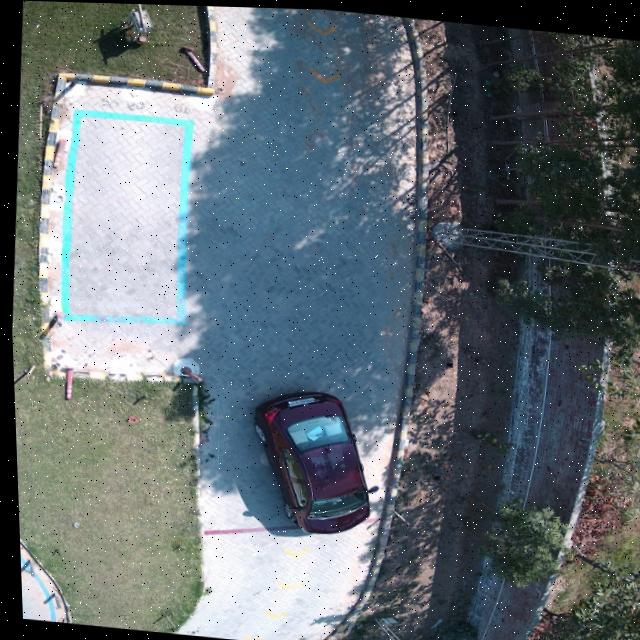car: (250, 389, 371, 532)
